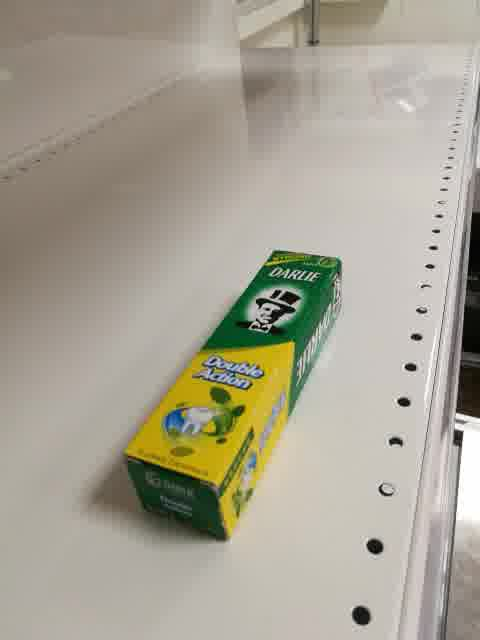toothpaste: (122, 249, 341, 546)
